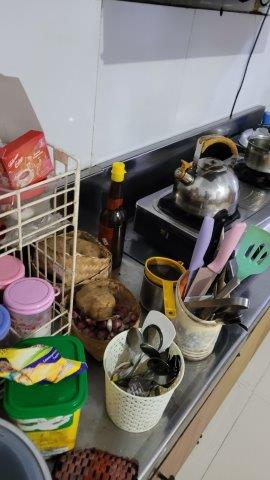botolkaca: (102, 162, 126, 263)
